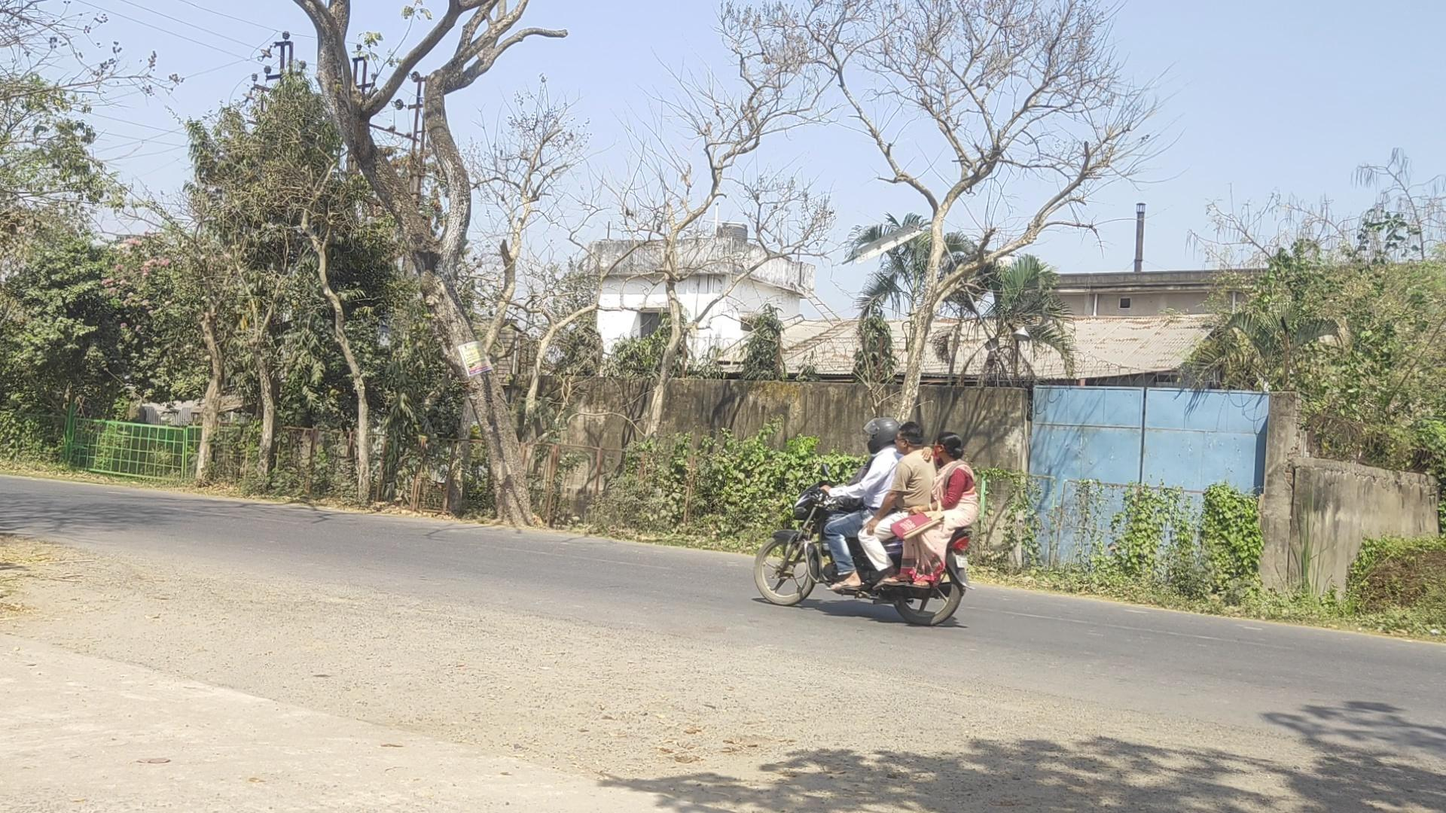bike: (755, 417, 979, 625)
